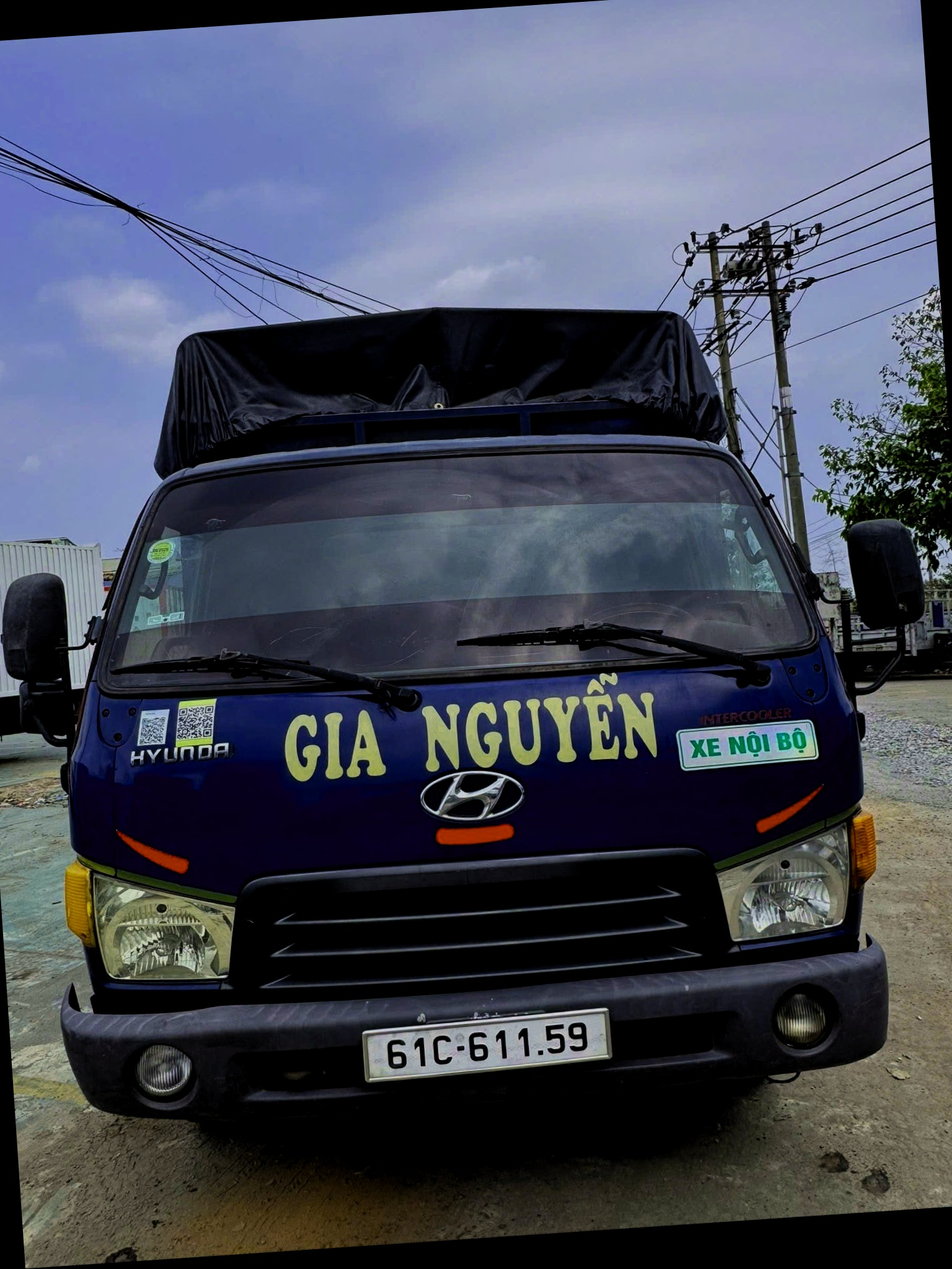Bien-so: (345, 1041, 607, 1117)
